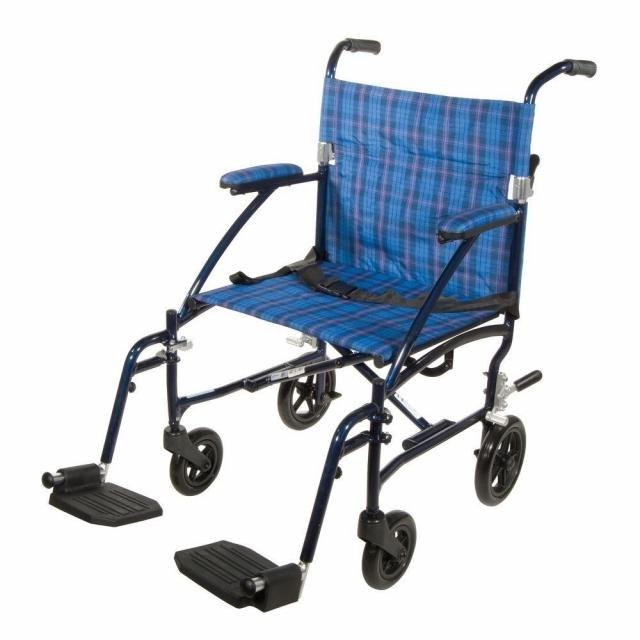wheelchair: (26, 23, 612, 624)
